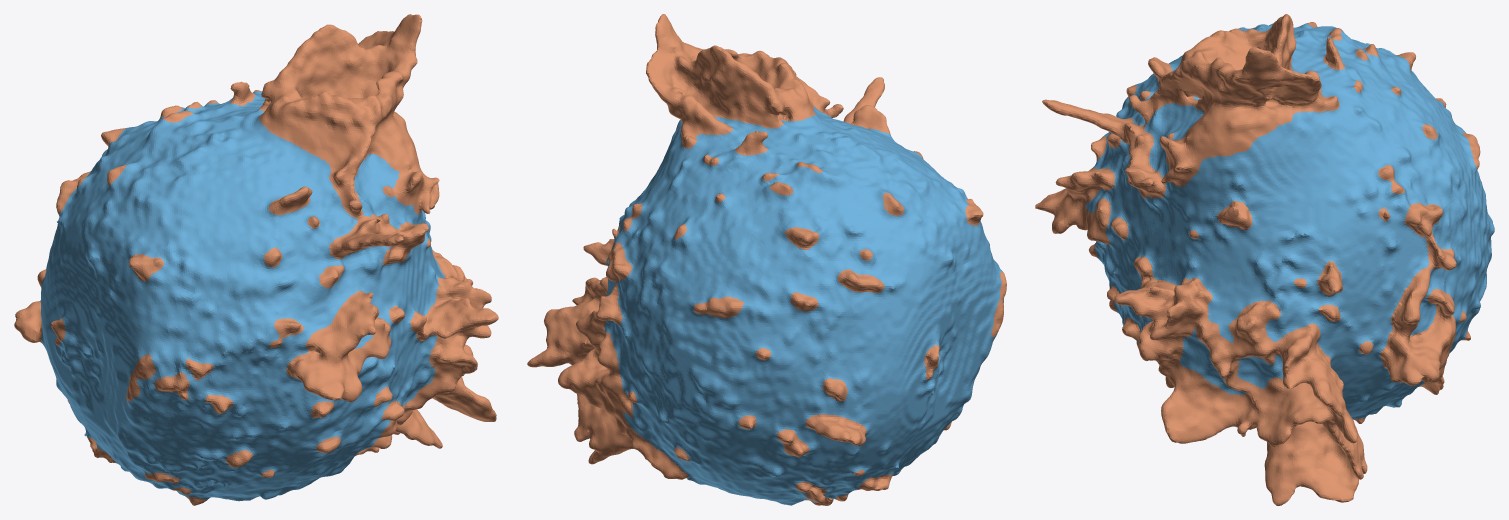
3 renders of one model, left to right at view 1: azimuth 30°, elevation 25°; view 2: azimuth 150°, elevation 25°; view 3: azimuth 270°, elevation 25°, orthographic. The views are drawn at different scales.
Size of the model in its own units: 173 by 177 by 166.
